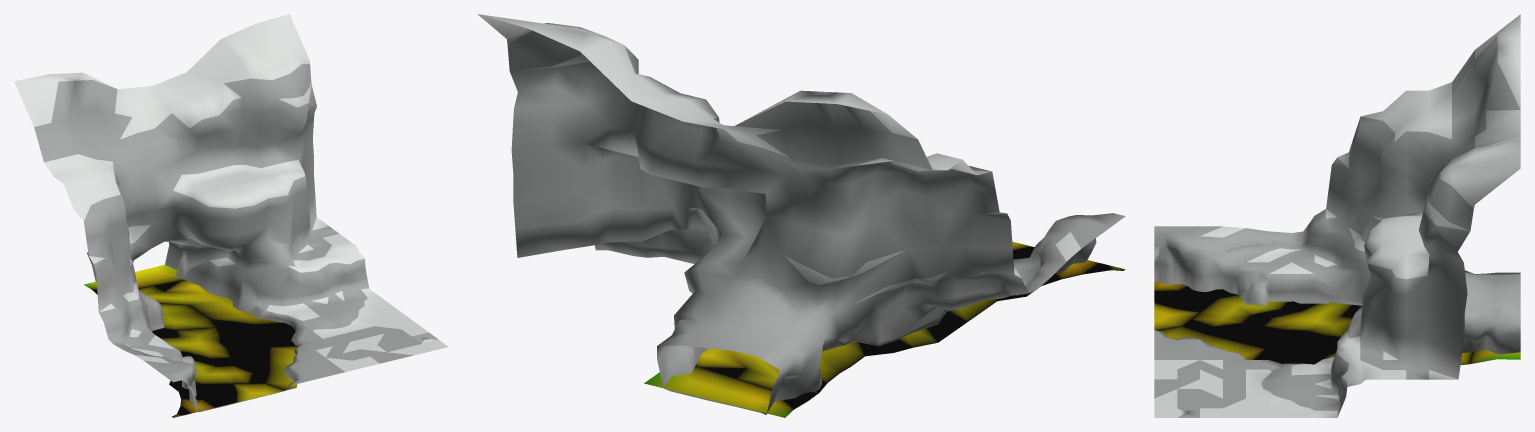
3 renders of one model, left to right at view 1: azimuth 30°, elevation 25°; view 2: azimuth 150°, elevation 25°; view 3: azimuth 270°, elevation 25°, orthographic. The views are drawn at different scales.
Parts seen in each view (by area): view 1: G:\FFXIV-MapTools\exports\f1t2\bg\ffxiv\fst_f1\twn\f1t2\bgpl (×11); view 2: G:\FFXIV-MapTools\exports\f1t2\bg\ffxiv\fst_f1\twn\f1t2\bgpl (×8); view 3: G:\FFXIV-MapTools\exports\f1t2\bg\ffxiv\fst_f1\twn\f1t2\bgpl (×11).
Part boxes in pixels (box(x1,y1,x2,y2)): G:\FFXIV-MapTools\exports\f1t2\bg\ffxiv\fst_f1\twn\f1t2\bgpl (×11): box(14, 14, 448, 417); G:\FFXIV-MapTools\exports\f1t2\bg\ffxiv\fst_f1\twn\f1t2\bgpl (×8): box(477, 14, 1125, 417); G:\FFXIV-MapTools\exports\f1t2\bg\ffxiv\fst_f1\twn\f1t2\bgpl (×11): box(1154, 14, 1520, 417).
Bounding box in the file's own units: 64 × 49.79 × 64.
